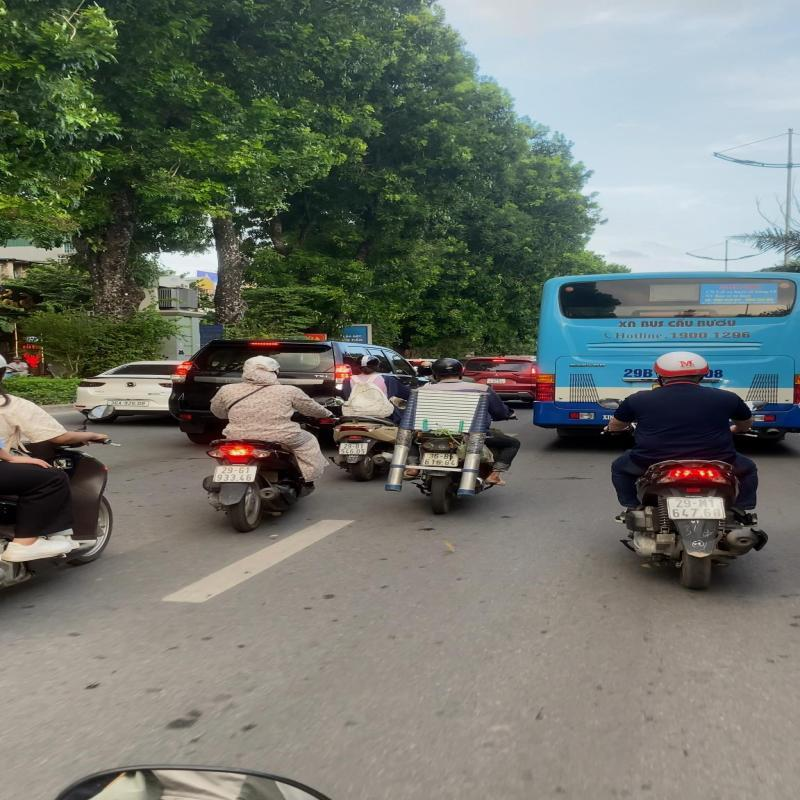helmet: (652, 349, 712, 382), (243, 354, 282, 372), (430, 358, 464, 376), (357, 355, 382, 368)
licenseplate: (663, 495, 729, 521), (210, 464, 260, 485), (419, 452, 460, 467), (339, 442, 368, 455)
motorcyclist: (596, 347, 780, 592), (197, 352, 338, 534), (383, 357, 524, 516), (329, 353, 413, 482)
